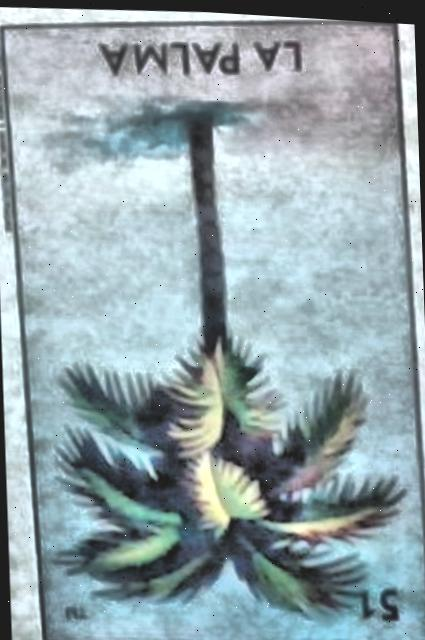La Palma: (4, 19, 425, 640)
